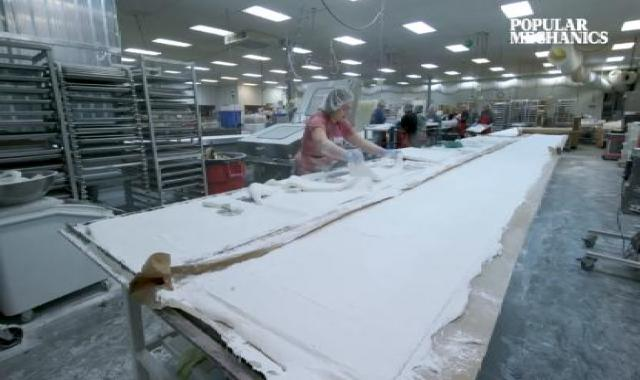hairnet: (319, 89, 357, 121)
